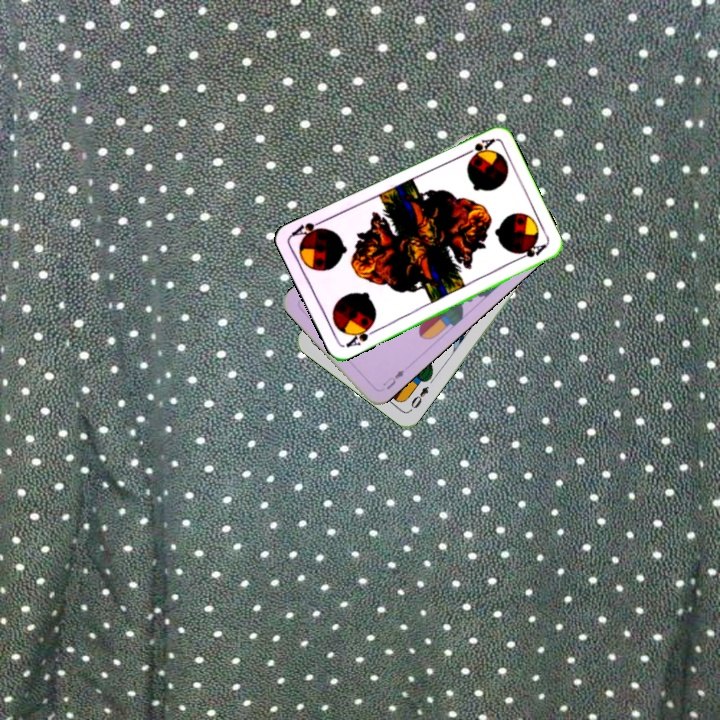EO: (406, 382, 431, 414)
EU: (379, 366, 407, 392)
SA: (341, 320, 379, 350), (459, 134, 497, 162)
